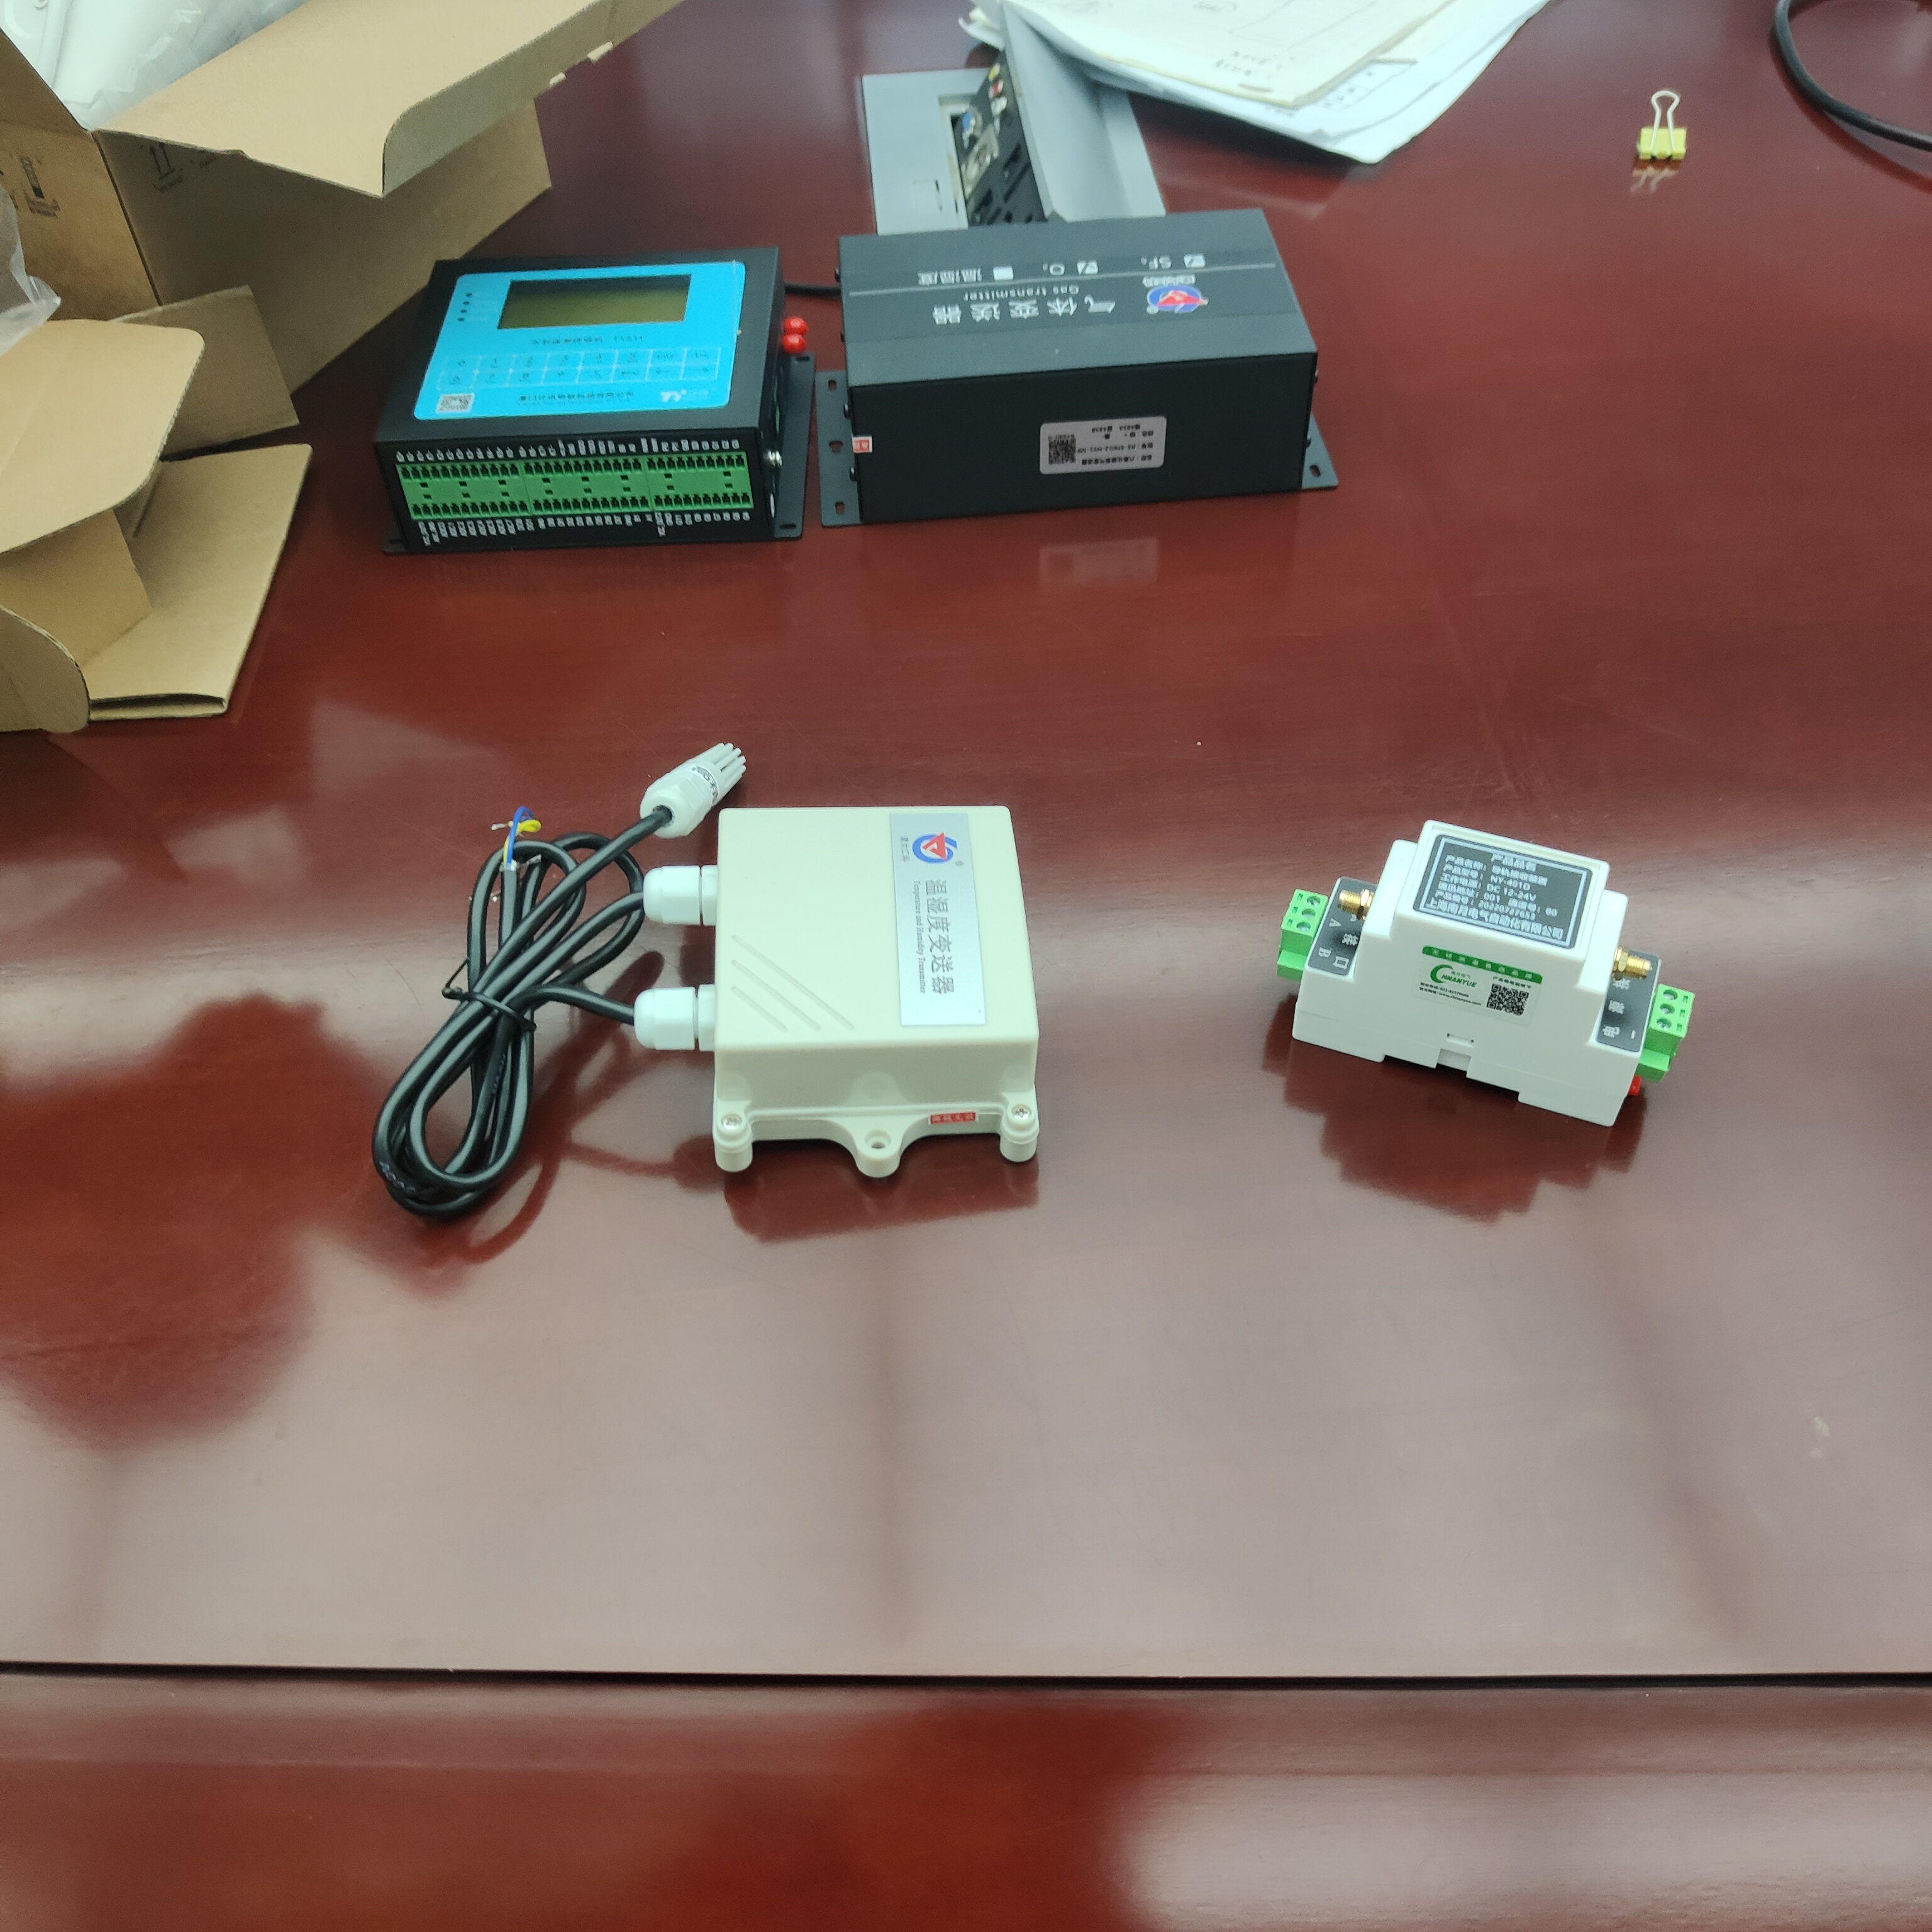dgjs: (1260, 793, 1730, 1205)
qtbsq: (817, 207, 1353, 524)
slyczd: (368, 228, 846, 561)
wsdbsq: (628, 761, 1099, 1215)
